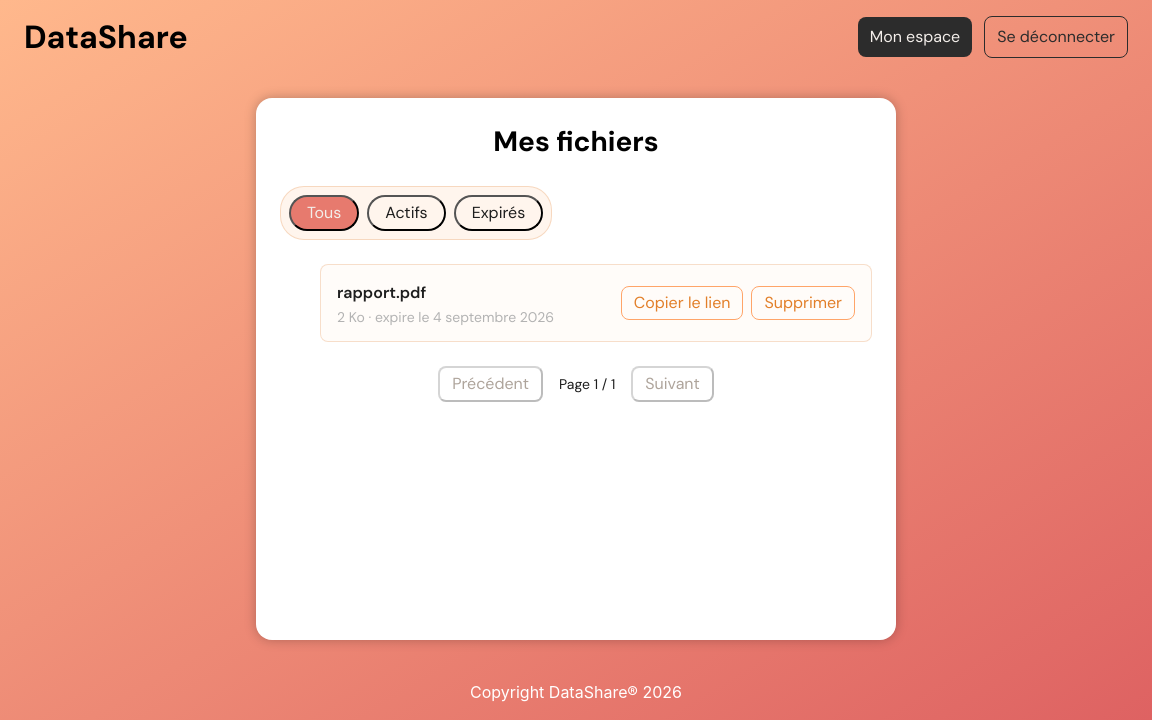
Test: MyFilesView › copie le lien de partage et affiche une confirmation
Click the button with class "file-row-copy-button" at (682, 303), box 621,286 -> 744,320
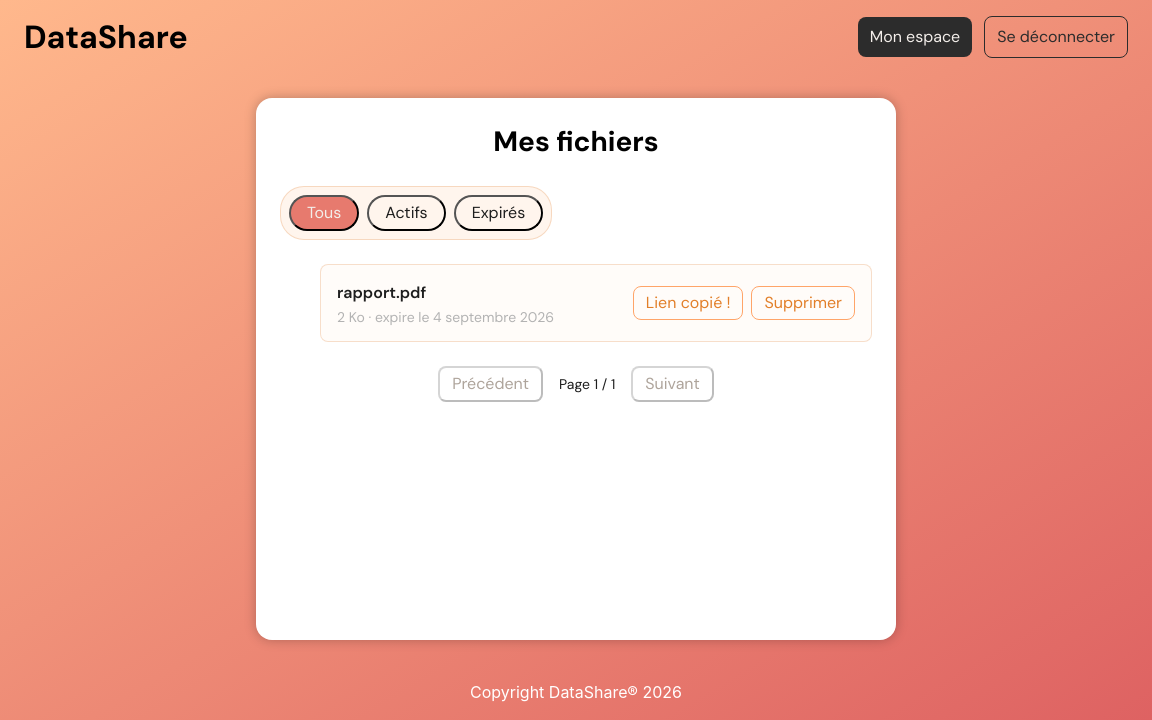
Expected: the button with class "file-row-copy-button" reads "Lien copié !", 633,286 -> 743,320
